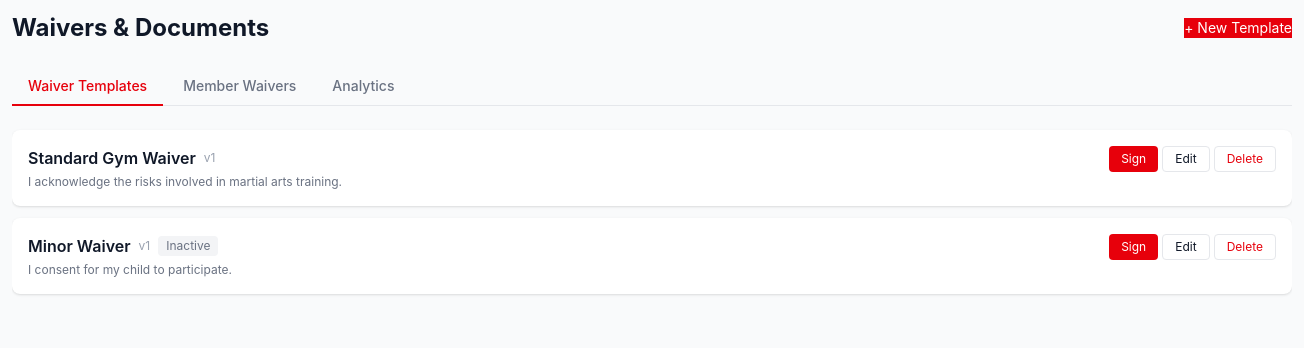
Test: Waivers Page › searches a member and shows member-waivers tab with waivers table
This screenshot has width=1304, height=348.
Click the tab "Member Waivers": (240, 87) [167,68,312,106]
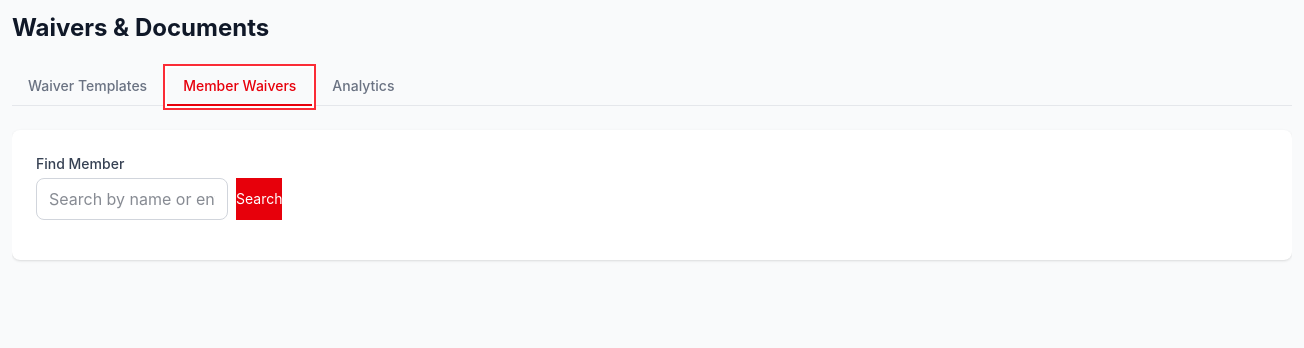
In the field named "Search member": (132, 199) [36,178,228,220], type "1"
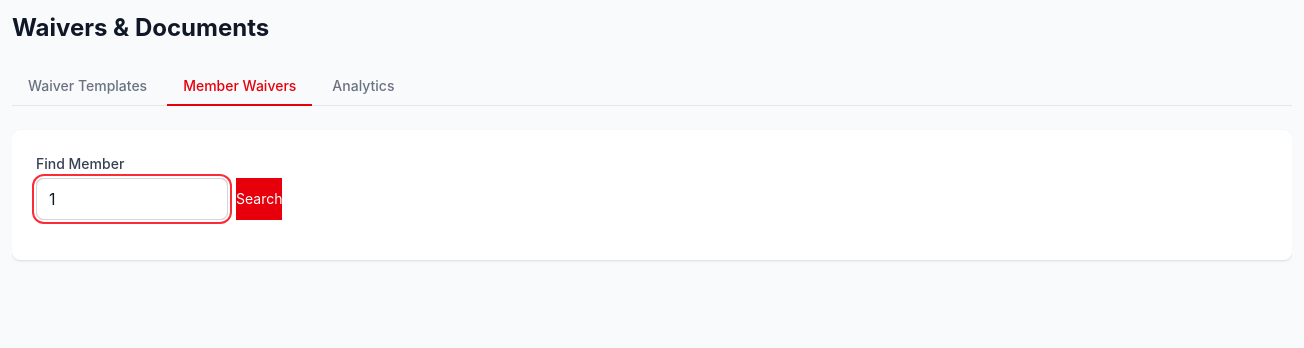
Click the button "Search": (259, 199) [236,178,282,220]
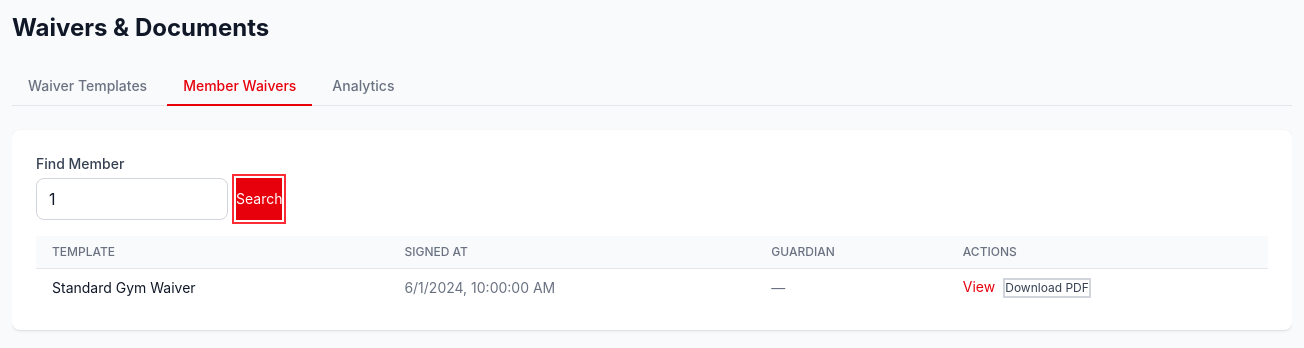
Now the text "Standard Gym Waiver" is shown, box [36,268,388,306]
Now the button "Download PDF" is shown, box [1003,278,1091,298]
